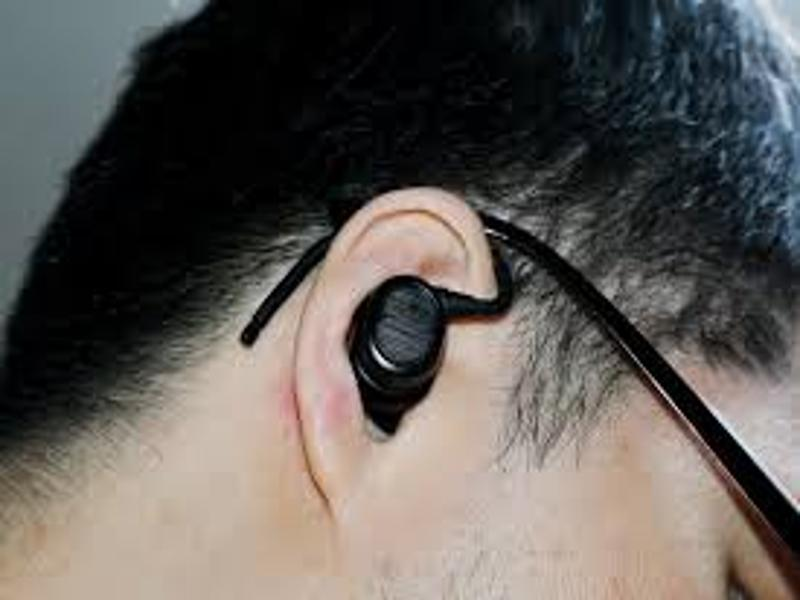headphone: (356, 273, 445, 437)
